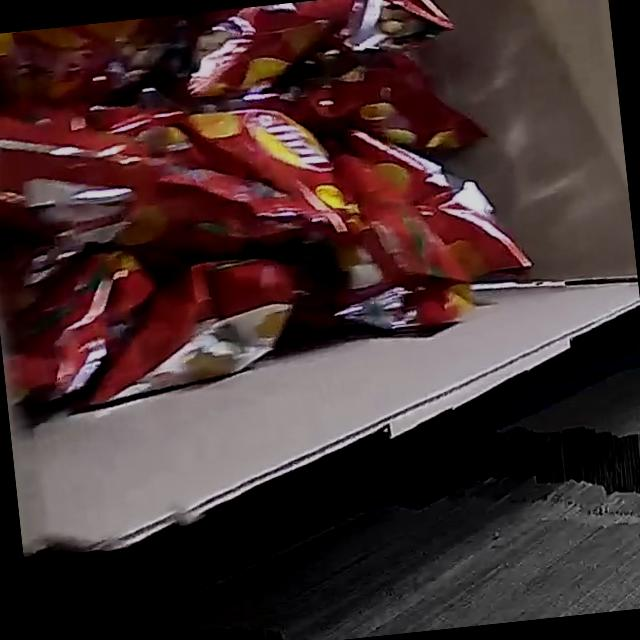masala: (0, 0, 543, 425)
